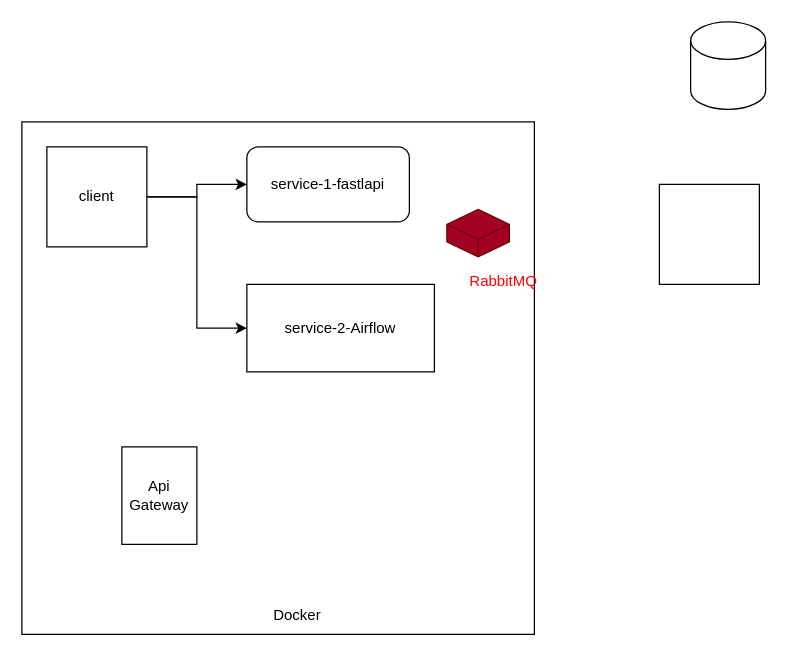
The diagram is 788 pixels wide and 656 high, and some of its shapes have lost their labels. Each missing label, with the centre of its shape:
Kubernetes: point 708,233
MysqlDb: point 727,65
